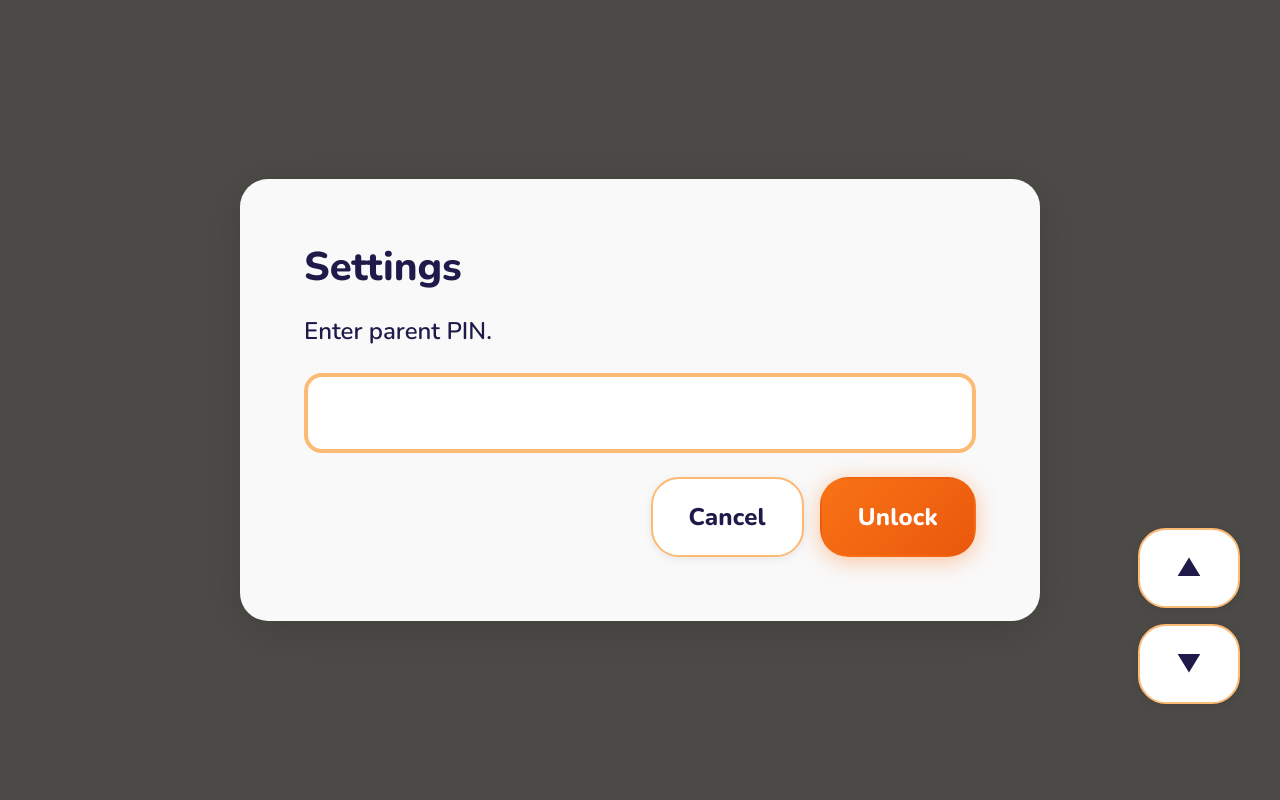
Test case: UC12: As a parent, I want to grant bonus minutes via a PIN-protected settings screen › SettingsModal shows ±1 min and ±5 min adjustment buttons when authenticated
Step 1. Type "1234" into the password field named "pin" → (640, 413), box x1=304 y1=373 x2=976 y2=453
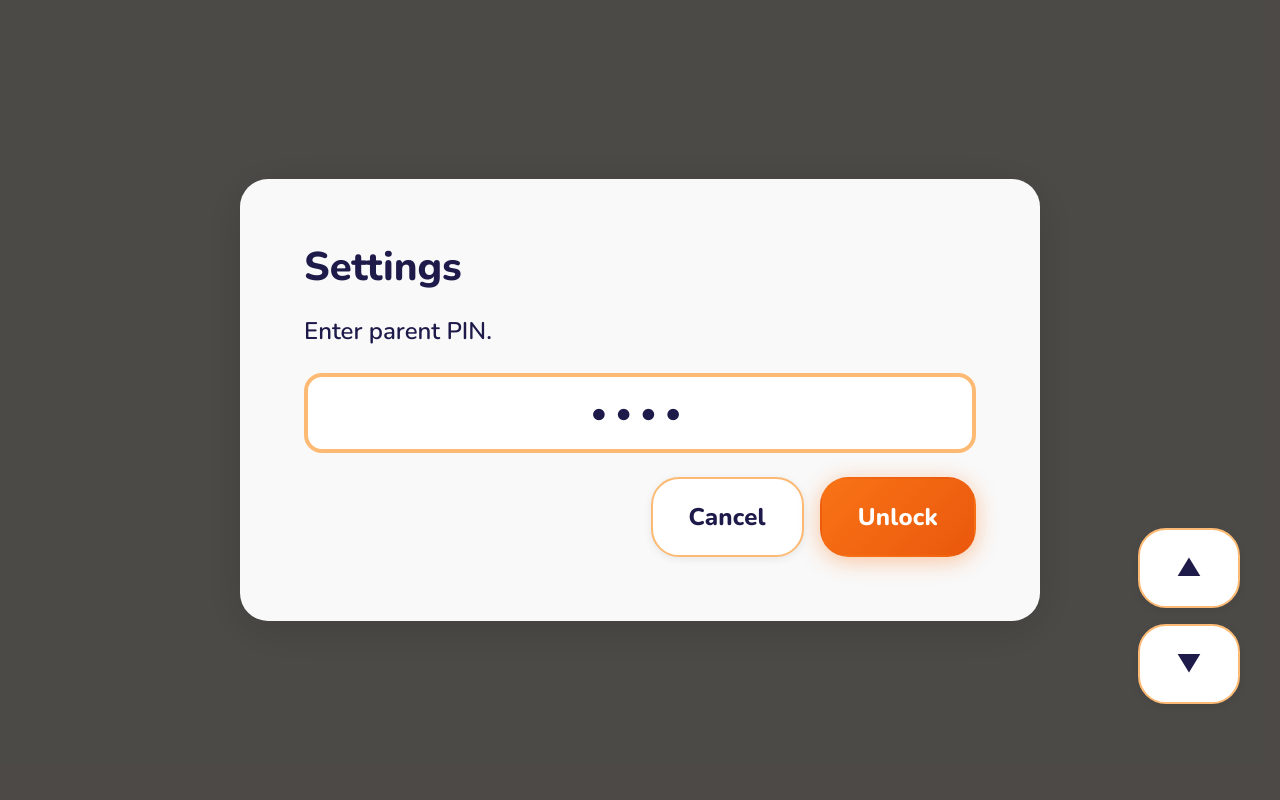
Step 2. Click the button "Unlock" → (898, 517), box x1=820 y1=477 x2=976 y2=557
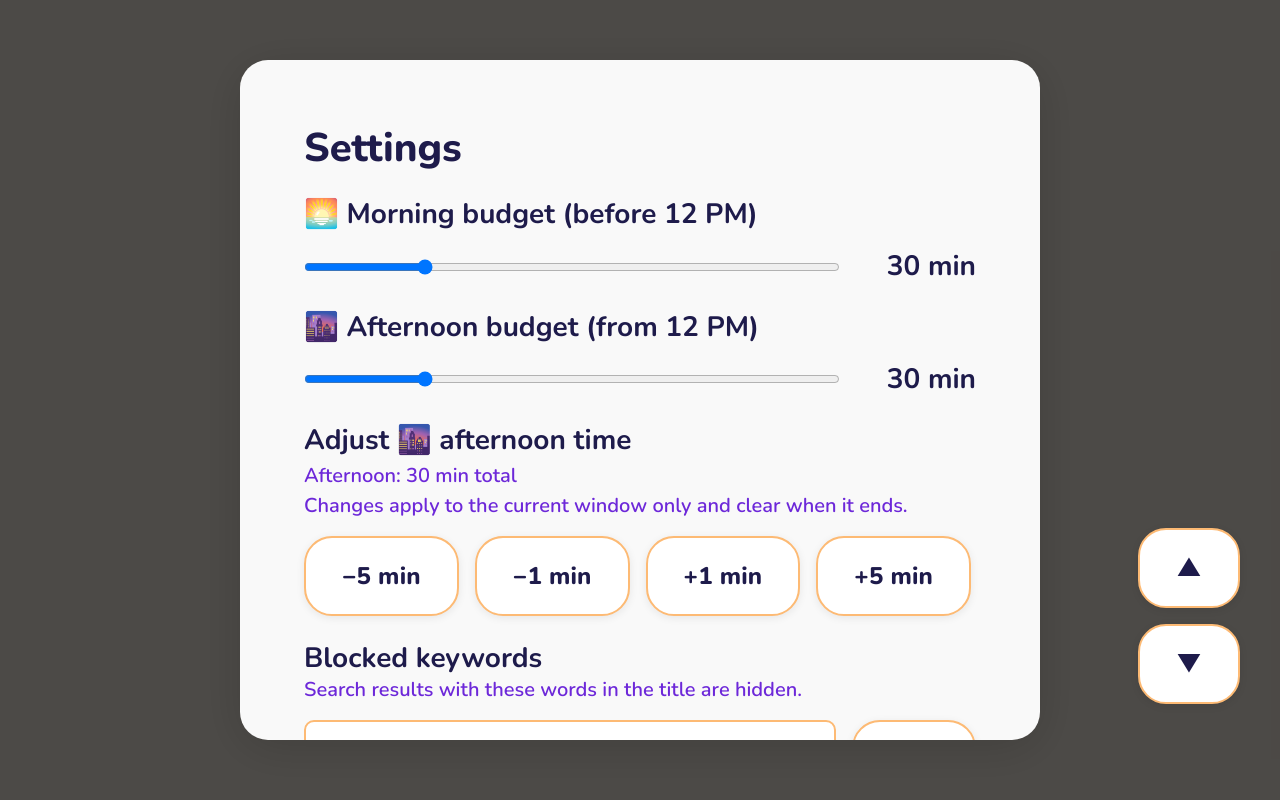
expect the button "−1 min" is shown: met, box x1=475 y1=536 x2=630 y2=616
expect the button "+1 min" is shown: met, box x1=646 y1=536 x2=800 y2=616
expect the button "−5 min" is shown: met, box x1=304 y1=536 x2=459 y2=616
